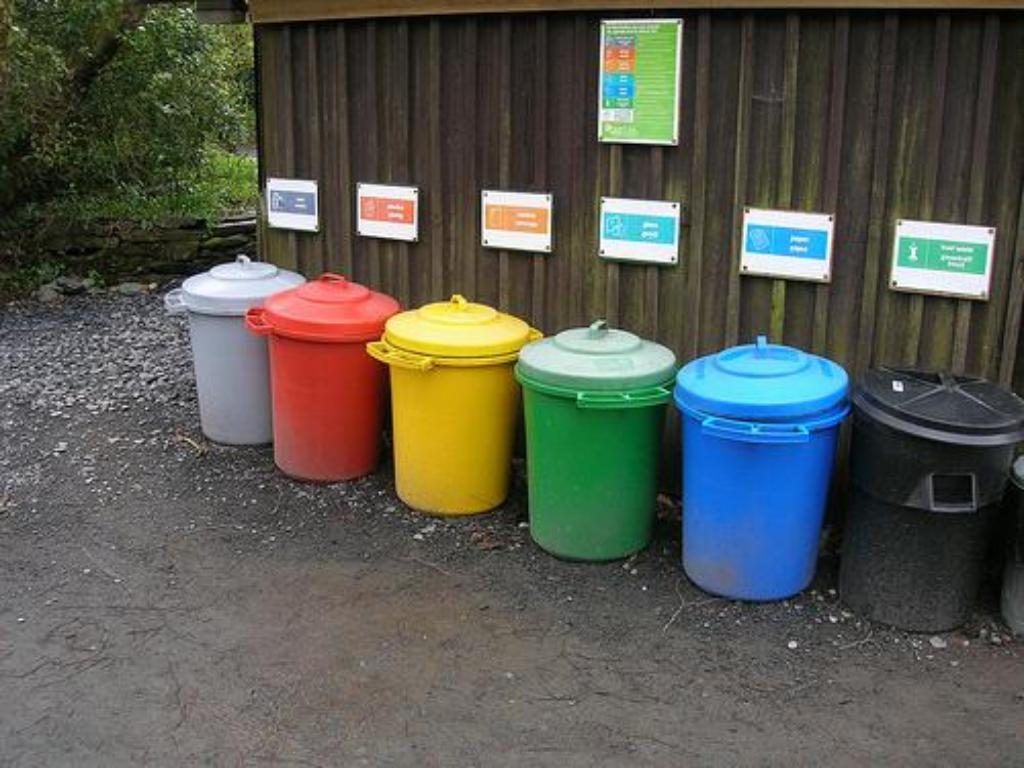dustbin: (658, 325, 858, 621), (171, 232, 395, 495), (834, 350, 1024, 641), (501, 302, 679, 567), (372, 283, 539, 525), (249, 247, 399, 496)
